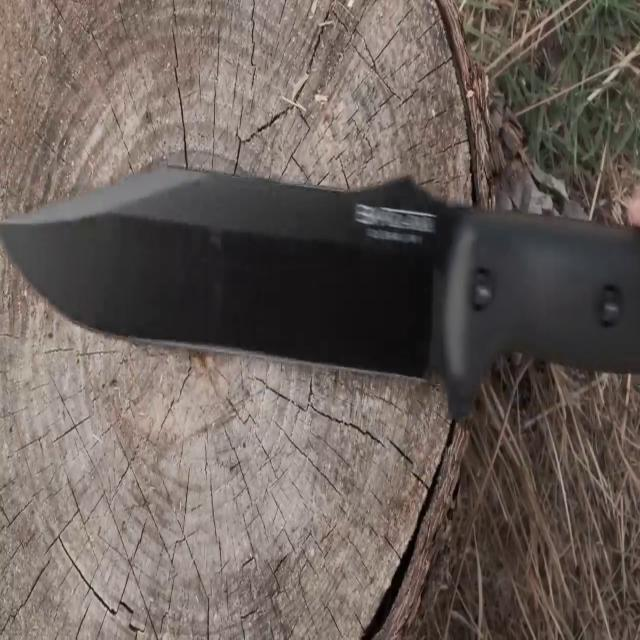Knife: (0, 140, 640, 427)
